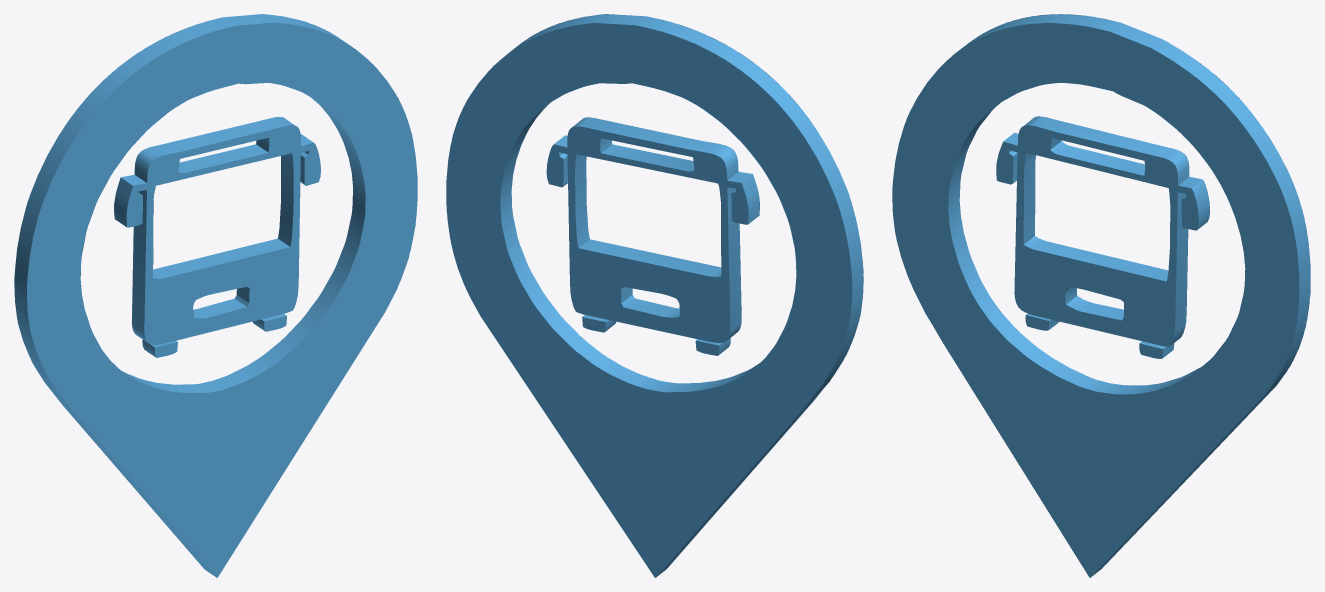
File: public_transport.glb
The picture shows the model from 3 angles, left to right: view 1: azimuth 30°, elevation 25°; view 2: azimuth 150°, elevation 25°; view 3: azimuth 330°, elevation 25°; orthographic projection.
Parts seen in each view (by area): view 1: Bus Pin; view 2: Bus Pin; view 3: Bus Pin.
Boxes of the visible parts, x1,y1,x2,y2 form: Bus Pin: (14, 14, 417, 577); Bus Pin: (446, 14, 863, 577); Bus Pin: (892, 14, 1310, 577).
Size of the model in its own units: 216 by 284 by 17.67.
